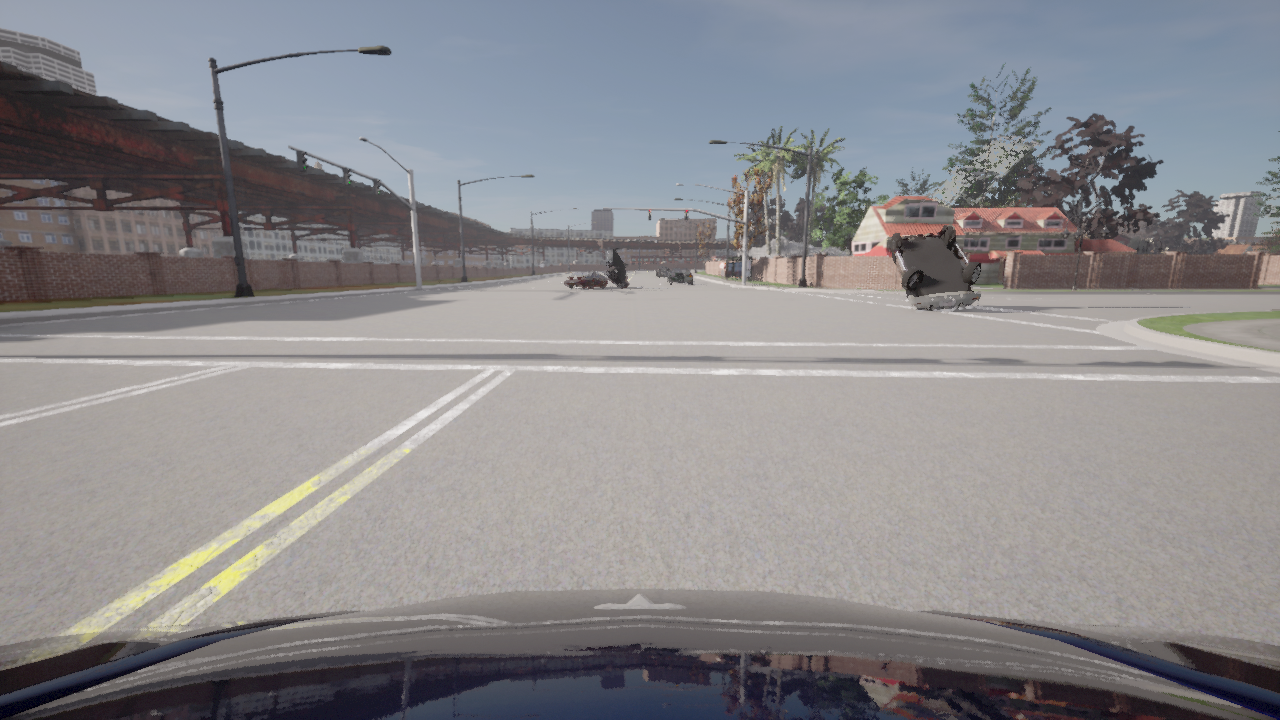cyclist: (0, 588, 1279, 719), (889, 225, 981, 311), (605, 246, 628, 287), (565, 270, 606, 288), (668, 267, 693, 285), (658, 267, 669, 276), (655, 265, 664, 274), (657, 266, 663, 269)
